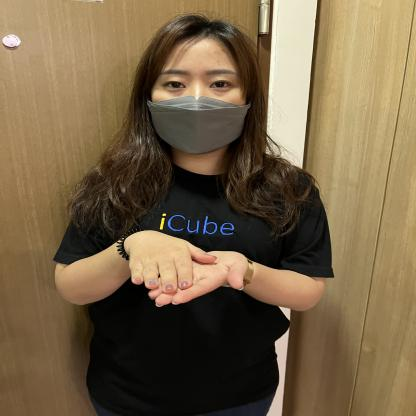Love: (76, 220, 331, 323)
